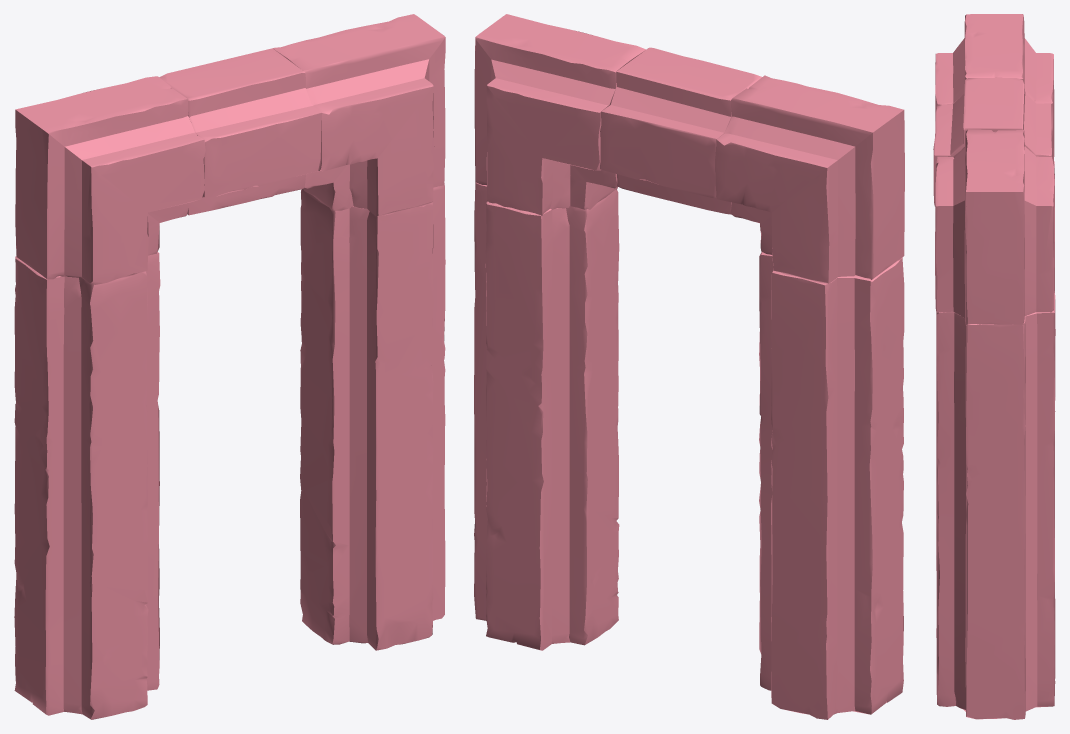
File: cluster_stone_06_c.fbx
The picture shows the model from 3 angles, left to right: view 1: azimuth 30°, elevation 25°; view 2: azimuth 150°, elevation 25°; view 3: azimuth 270°, elevation 25°; orthographic projection. The views are drawn at different scales.
Parts seen in each view (by area): view 1: cluster_stone_06_c_LOD0; view 2: cluster_stone_06_c_LOD0; view 3: cluster_stone_06_c_LOD0.
Part boxes in pixels (x1,y1,x2,y2): cluster_stone_06_c_LOD0: (14, 14, 445, 719); cluster_stone_06_c_LOD0: (474, 14, 904, 719); cluster_stone_06_c_LOD0: (933, 14, 1055, 719).
Size of what is drawn, in the model's own units: 458 by 640 by 134.
